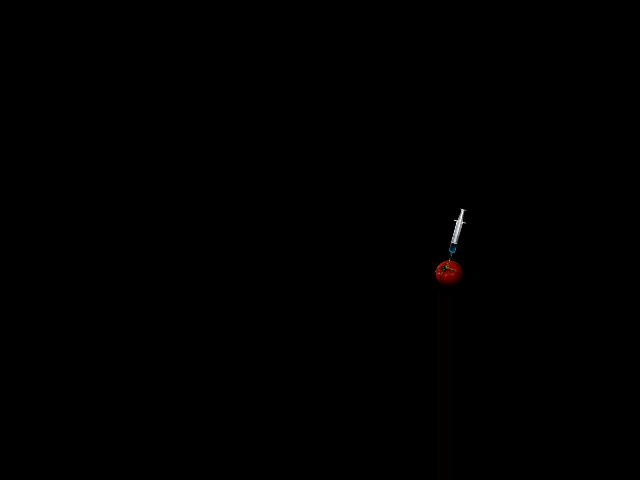tomato: (435, 260, 463, 285)
